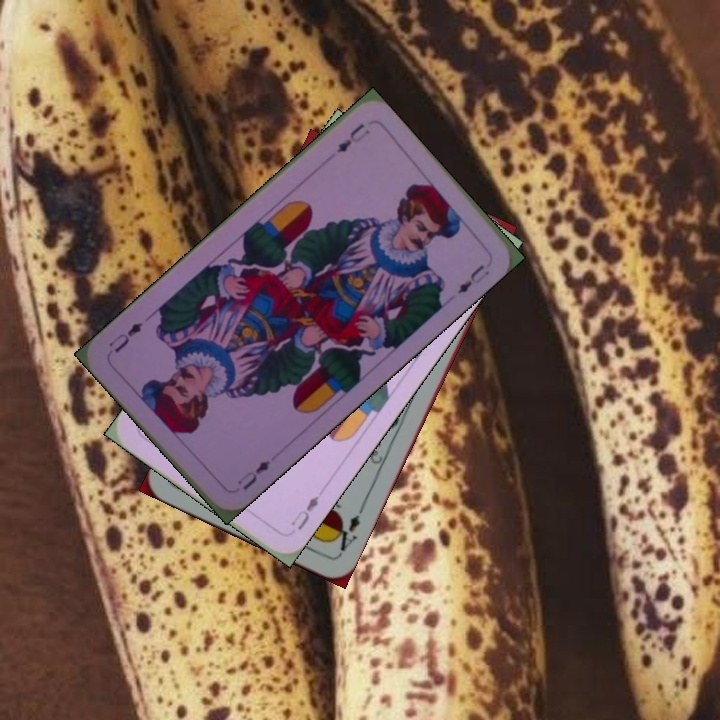EA: (328, 502, 367, 558)
EU: (233, 455, 273, 493), (332, 119, 373, 156), (286, 491, 322, 533)
